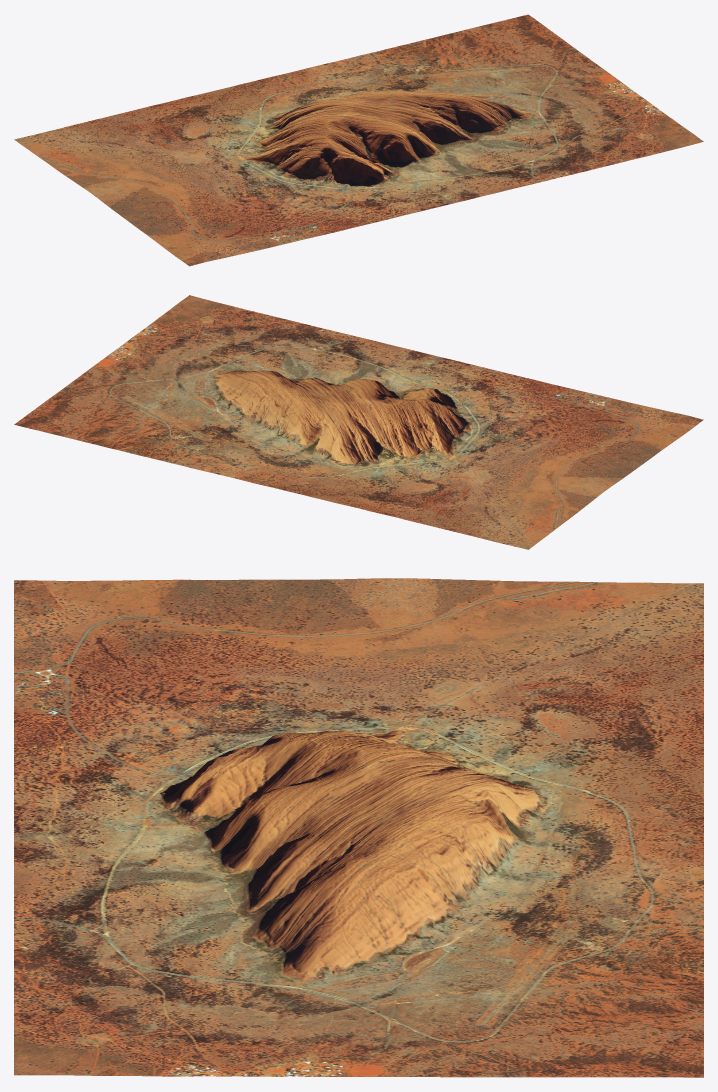
The model's file is uluru.glb.
3 views of the same model, one above another, from view 1: azimuth 30°, elevation 25°; view 2: azimuth 150°, elevation 25°; view 3: azimuth 270°, elevation 25° (orthographic). The views are drawn at different scales.
Visible parts, largest first — view 1: Object_2; view 2: Object_2; view 3: Object_2.
Part boxes in pixels (bbox=[...]): Object_2: bbox=[14, 14, 703, 266]; Object_2: bbox=[14, 295, 703, 549]; Object_2: bbox=[14, 578, 703, 1077].
Size of the model in its own units: 6726 by 342 by 3975.
Materials: 1 (1 with a texture image).
